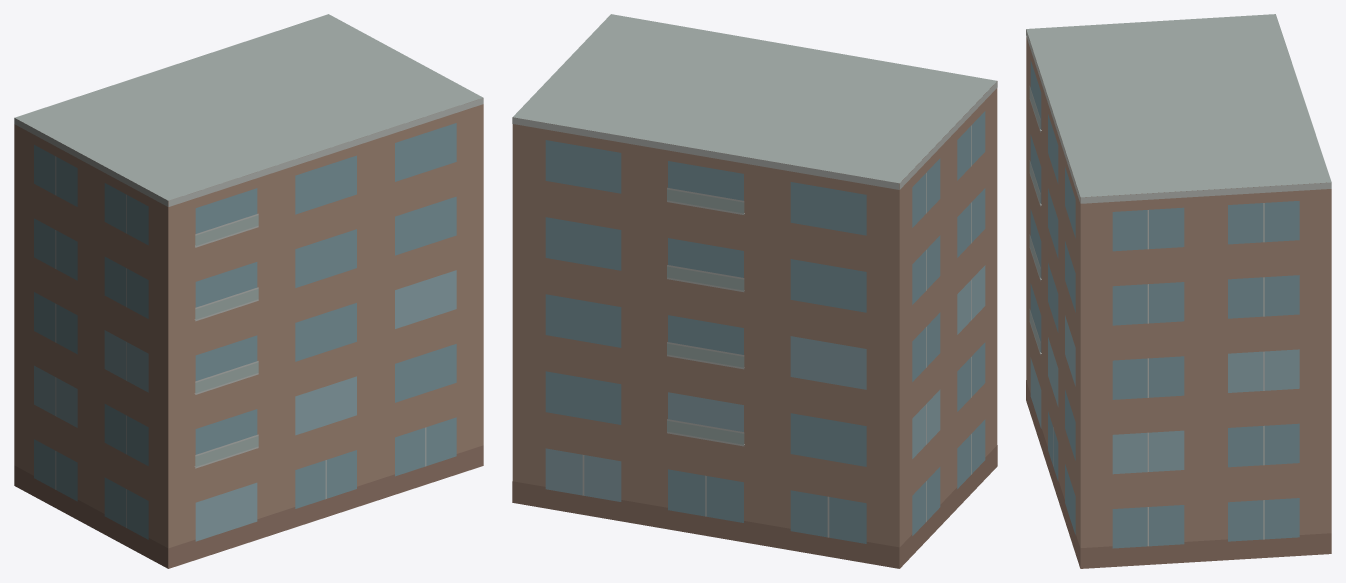
The model's file is survey-upis-32576559.glb.
The picture shows the model from 3 angles, left to right: view 1: azimuth 30°, elevation 25°; view 2: azimuth 150°, elevation 25°; view 3: azimuth 270°, elevation 25°; orthographic projection. The views are drawn at different scales.
Parts seen in each view (by area): view 1: survey-upis-32576559.tmp; view 2: survey-upis-32576559.tmp; view 3: survey-upis-32576559.tmp.
Part boxes in pixels (x1,y1,x2,y2): survey-upis-32576559.tmp: [14, 14, 483, 568]; survey-upis-32576559.tmp: [512, 14, 997, 568]; survey-upis-32576559.tmp: [1026, 14, 1331, 568].
Bounding box in the file's own units: 14.94 × 14.1 × 10.52.
